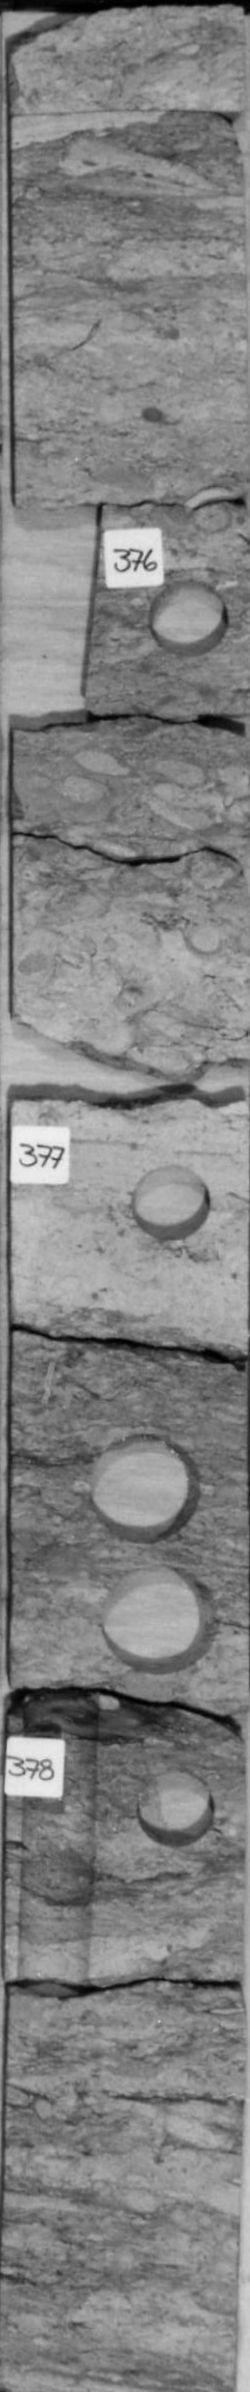hplug: (123, 1760, 221, 1853), (143, 577, 236, 665), (127, 1159, 213, 1248)
scal: (79, 1423, 204, 1548), (95, 1561, 221, 1680)
vplug: (12, 1693, 107, 1994), (15, 494, 107, 732)
